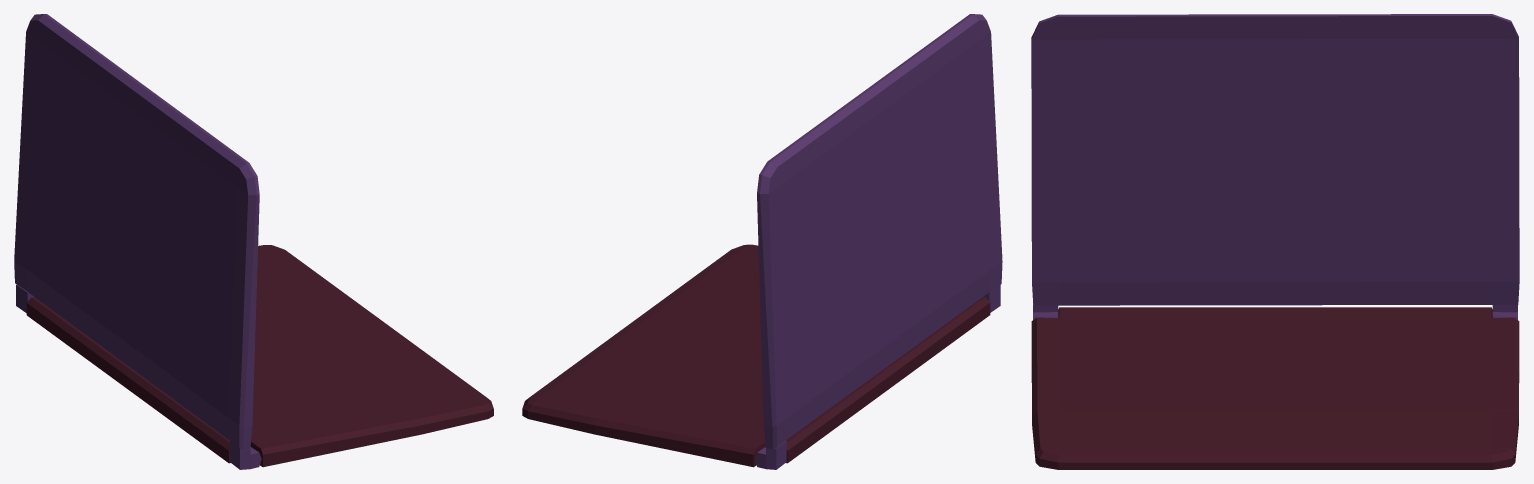
File: notebook.fbx
The picture shows the model from 3 angles, left to right: view 1: azimuth 30°, elevation 25°; view 2: azimuth 150°, elevation 25°; view 3: azimuth 270°, elevation 25°; orthographic projection. The views are drawn at different scales.
Visible parts, largest first — view 1: Cube.002; view 2: Cube.002; view 3: Cube.002.
Boxes of the visible parts, <box> form: Cube.002: <box>14,14,493,469</box>; Cube.002: <box>522,14,1002,469</box>; Cube.002: <box>1031,14,1519,469</box>.
Size of the model in its own units: 20.07 by 22.24 by 30.03.
